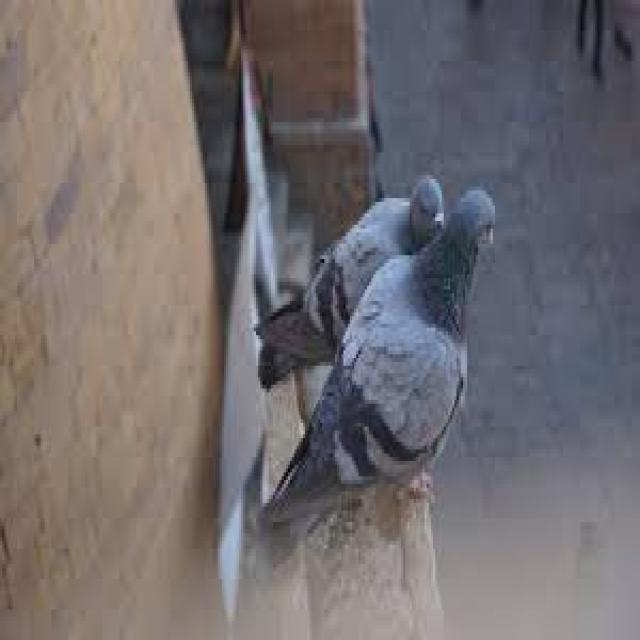pigeon: (262, 165, 497, 569)
